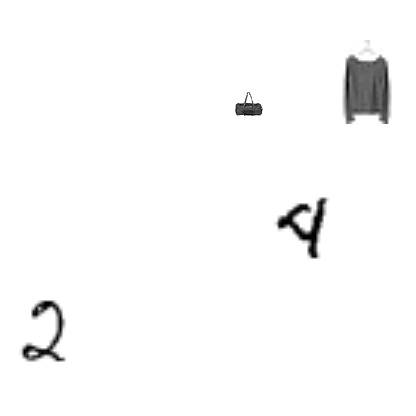2: (2, 289, 86, 373)
4: (263, 183, 347, 267)
Bag: (235, 90, 263, 118)
Pullover: (325, 40, 409, 124)
